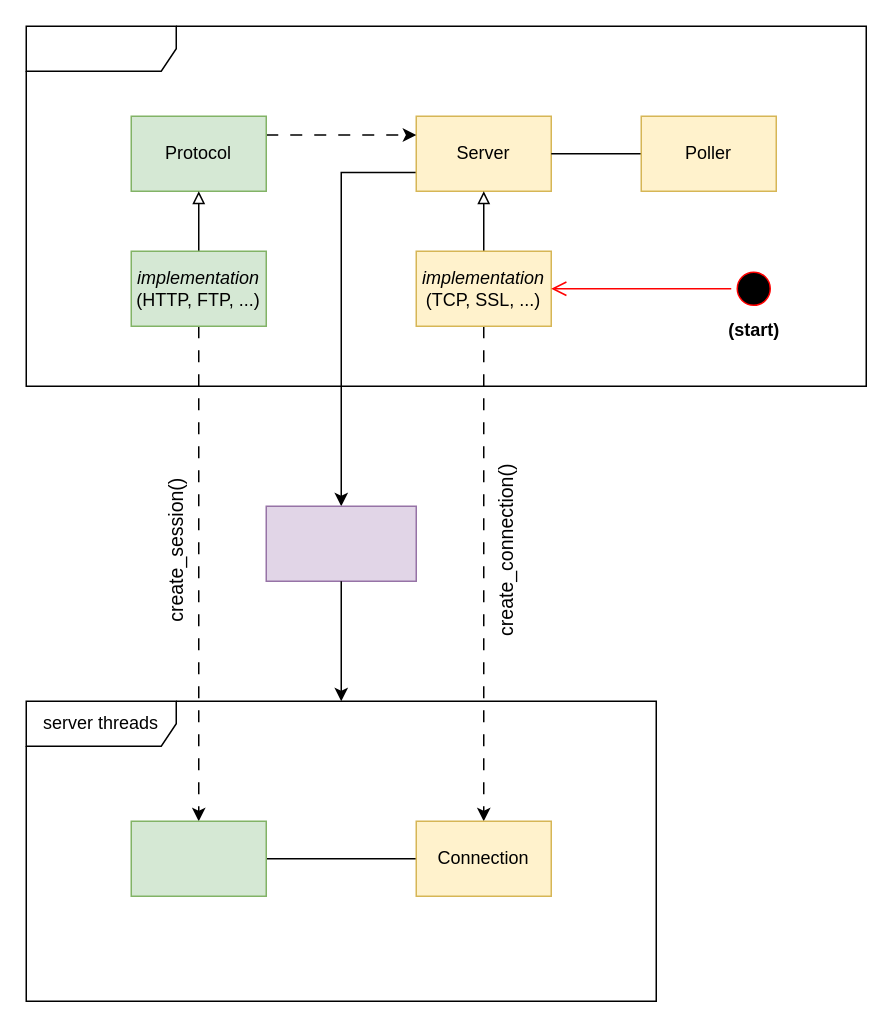
This 893x1028 diagram has some shape labels left out. Each missing label, with the box of its shape:
main thread: (25, 25, 866, 386)
Server Thread Manager: (265, 505, 416, 581)
Session: (130, 820, 266, 896)
